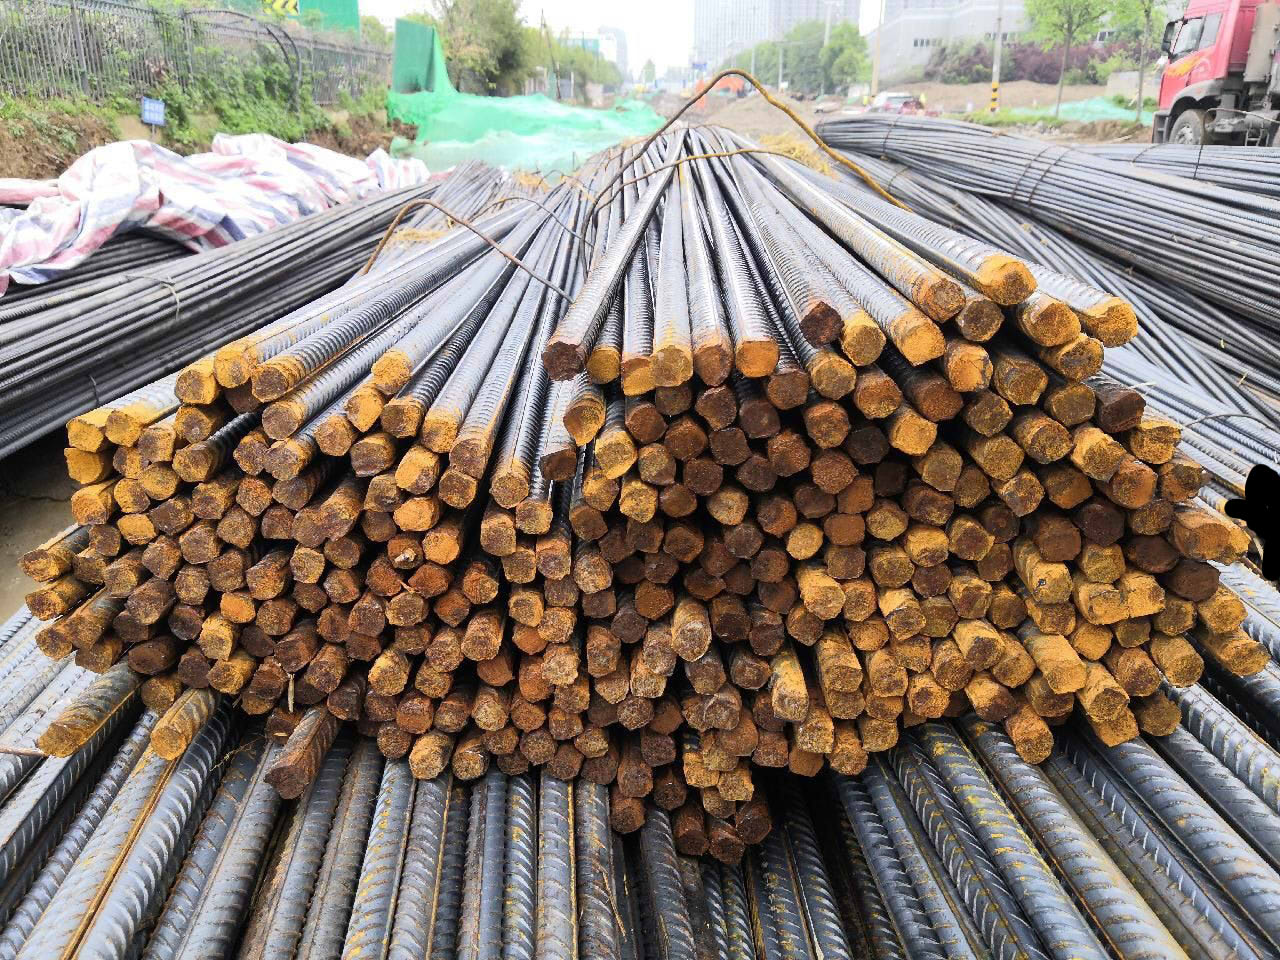rebar: (997, 359, 1051, 407), (986, 259, 1039, 308), (1078, 435, 1129, 485), (796, 298, 846, 349), (1031, 301, 1083, 347), (1054, 337, 1107, 383), (900, 319, 948, 368), (919, 275, 968, 325), (1094, 300, 1140, 350), (767, 428, 812, 478), (976, 437, 1027, 481), (853, 374, 903, 418), (734, 335, 781, 381), (809, 355, 858, 400), (965, 392, 1014, 437), (1112, 465, 1161, 509), (1161, 462, 1212, 504), (1000, 472, 1046, 518), (1049, 383, 1098, 428), (539, 338, 586, 383), (1121, 573, 1167, 618), (810, 451, 858, 495), (1099, 391, 1148, 434), (843, 323, 888, 368), (1028, 421, 1073, 466), (649, 343, 695, 387), (694, 386, 739, 433), (906, 486, 956, 526), (807, 404, 852, 450), (211, 343, 254, 389), (392, 448, 435, 494), (736, 396, 782, 440), (149, 495, 197, 537), (918, 449, 964, 492), (959, 298, 1006, 341), (622, 402, 669, 444), (1223, 639, 1270, 681), (1044, 469, 1093, 509), (1030, 562, 1075, 604), (231, 432, 272, 478), (1082, 585, 1129, 626), (949, 521, 997, 562), (1130, 535, 1179, 574), (140, 536, 183, 580), (369, 353, 412, 396), (666, 417, 710, 461), (974, 539, 1017, 583), (707, 424, 752, 465), (947, 351, 993, 392), (891, 415, 937, 456), (1182, 522, 1231, 561), (1127, 499, 1176, 536), (1082, 502, 1125, 546), (67, 486, 111, 527), (919, 380, 964, 422), (706, 488, 751, 528), (1081, 544, 1127, 584), (1137, 426, 1183, 465), (1173, 564, 1222, 601), (232, 475, 274, 517), (214, 506, 256, 549), (260, 763, 309, 800), (580, 469, 621, 512), (635, 445, 678, 486), (259, 443, 303, 483), (1141, 698, 1185, 738), (313, 411, 353, 457), (33, 722, 80, 760), (909, 561, 955, 599), (179, 523, 222, 565), (256, 596, 298, 637), (343, 390, 384, 433), (476, 515, 517, 558), (562, 404, 605, 446), (767, 371, 808, 413), (669, 620, 711, 663), (867, 657, 909, 699), (1013, 723, 1055, 764), (594, 440, 637, 480), (680, 456, 725, 495), (865, 501, 909, 541), (1030, 679, 1074, 718), (102, 406, 143, 448), (313, 501, 355, 543), (988, 590, 1029, 631), (148, 720, 188, 762), (60, 445, 103, 485), (173, 367, 216, 407), (823, 543, 867, 582), (907, 528, 950, 568), (1086, 685, 1130, 724), (135, 463, 179, 501), (348, 439, 392, 477), (953, 466, 992, 510), (695, 343, 733, 388), (822, 509, 868, 547), (976, 687, 1021, 724), (1096, 710, 1141, 747), (1038, 524, 1083, 562), (250, 364, 291, 404), (362, 474, 404, 513), (488, 470, 530, 509), (1155, 596, 1197, 635), (171, 405, 215, 444), (846, 427, 889, 465), (206, 549, 243, 593), (512, 499, 556, 536), (449, 740, 489, 780), (617, 485, 658, 524), (737, 453, 776, 494), (952, 578, 992, 619), (1206, 596, 1248, 635), (448, 440, 490, 478), (748, 731, 790, 769), (1122, 659, 1164, 698), (1162, 650, 1204, 689), (22, 587, 68, 622), (989, 654, 1034, 690), (64, 610, 104, 650), (137, 425, 176, 465), (362, 558, 401, 598), (537, 604, 578, 643), (786, 520, 825, 561), (836, 474, 875, 514), (874, 459, 913, 499), (245, 560, 283, 601), (436, 471, 478, 509), (769, 685, 810, 723), (787, 607, 825, 648), (758, 496, 796, 537), (886, 604, 927, 642), (392, 497, 434, 534), (891, 635, 933, 673), (964, 634, 1006, 672), (848, 617, 891, 653), (1035, 601, 1078, 637), (842, 580, 877, 624), (470, 693, 509, 732), (534, 540, 573, 580), (670, 824, 710, 863), (125, 588, 165, 626), (346, 600, 386, 638), (259, 402, 300, 440), (407, 563, 449, 600), (516, 662, 552, 704), (622, 518, 664, 555), (536, 447, 580, 482), (730, 656, 773, 692), (1044, 660, 1087, 695), (137, 675, 176, 713), (113, 477, 152, 515), (287, 546, 326, 585), (506, 589, 545, 627), (658, 480, 697, 518), (723, 521, 762, 560), (700, 783, 739, 822), (685, 563, 725, 601), (749, 697, 788, 735), (272, 636, 312, 674), (619, 356, 656, 396), (680, 751, 721, 789), (795, 718, 836, 755), (804, 584, 846, 620), (1071, 623, 1113, 660), (792, 485, 836, 519), (18, 549, 62, 582), (395, 696, 433, 734), (499, 547, 537, 585), (64, 416, 104, 454), (174, 649, 212, 689), (172, 446, 212, 483), (290, 508, 328, 548), (407, 743, 446, 781), (567, 504, 607, 542), (702, 693, 740, 732), (919, 601, 958, 638), (270, 479, 315, 511), (381, 400, 421, 437), (539, 650, 580, 687), (634, 582, 674, 618), (756, 578, 796, 614), (662, 526, 704, 562), (367, 661, 409, 695), (874, 554, 916, 588), (164, 602, 202, 640), (414, 663, 453, 700), (583, 347, 620, 385), (609, 799, 647, 836), (708, 832, 746, 869), (206, 659, 245, 696), (190, 481, 227, 520), (373, 723, 412, 759), (828, 741, 868, 777), (751, 548, 790, 584), (174, 565, 210, 605), (859, 719, 900, 753), (653, 383, 695, 416), (72, 641, 115, 674), (433, 591, 471, 628), (748, 619, 785, 656), (909, 684, 946, 721), (982, 505, 1019, 543), (385, 534, 423, 571), (424, 637, 463, 674), (421, 529, 460, 566), (460, 569, 498, 605), (520, 731, 558, 767), (100, 564, 139, 599), (592, 670, 631, 705), (721, 722, 760, 757), (825, 687, 865, 722), (33, 627, 74, 662), (116, 513, 157, 547), (111, 446, 153, 478), (304, 657, 342, 694), (418, 416, 456, 453), (575, 559, 613, 595), (639, 732, 676, 768), (933, 655, 972, 691), (616, 697, 655, 731), (710, 609, 749, 643), (788, 744, 827, 778), (126, 641, 166, 675), (359, 510, 400, 543), (71, 550, 107, 586), (197, 625, 233, 662), (430, 698, 467, 734), (691, 660, 728, 696), (258, 505, 295, 540), (324, 569, 361, 604), (548, 744, 584, 782), (581, 752, 618, 788), (584, 639, 619, 677), (111, 612, 149, 646), (630, 665, 668, 699), (474, 653, 513, 687), (386, 595, 426, 627), (265, 705, 300, 741), (864, 692, 906, 722), (218, 591, 255, 625), (246, 667, 283, 701), (326, 686, 360, 723), (596, 528, 633, 563), (461, 628, 499, 662), (717, 771, 757, 803), (227, 381, 263, 415), (85, 522, 121, 557), (324, 537, 361, 571), (572, 726, 610, 759), (510, 701, 548, 733), (610, 612, 648, 644), (735, 813, 773, 845), (1114, 617, 1152, 649), (391, 626, 431, 656), (543, 574, 579, 608), (642, 640, 676, 676), (653, 776, 687, 812), (291, 580, 328, 613), (701, 741, 738, 774), (641, 553, 679, 584), (479, 727, 519, 756), (241, 625, 275, 659), (315, 610, 350, 644), (827, 662, 865, 693), (615, 768, 653, 799), (579, 589, 618, 618), (650, 702, 684, 735), (702, 540, 734, 577), (344, 631, 381, 662), (552, 686, 592, 714), (512, 623, 545, 656), (362, 692, 396, 724), (548, 708, 583, 740), (238, 686, 275, 714), (681, 696, 710, 732), (496, 749, 531, 777), (726, 568, 755, 596), (1226, 527, 1252, 558)
